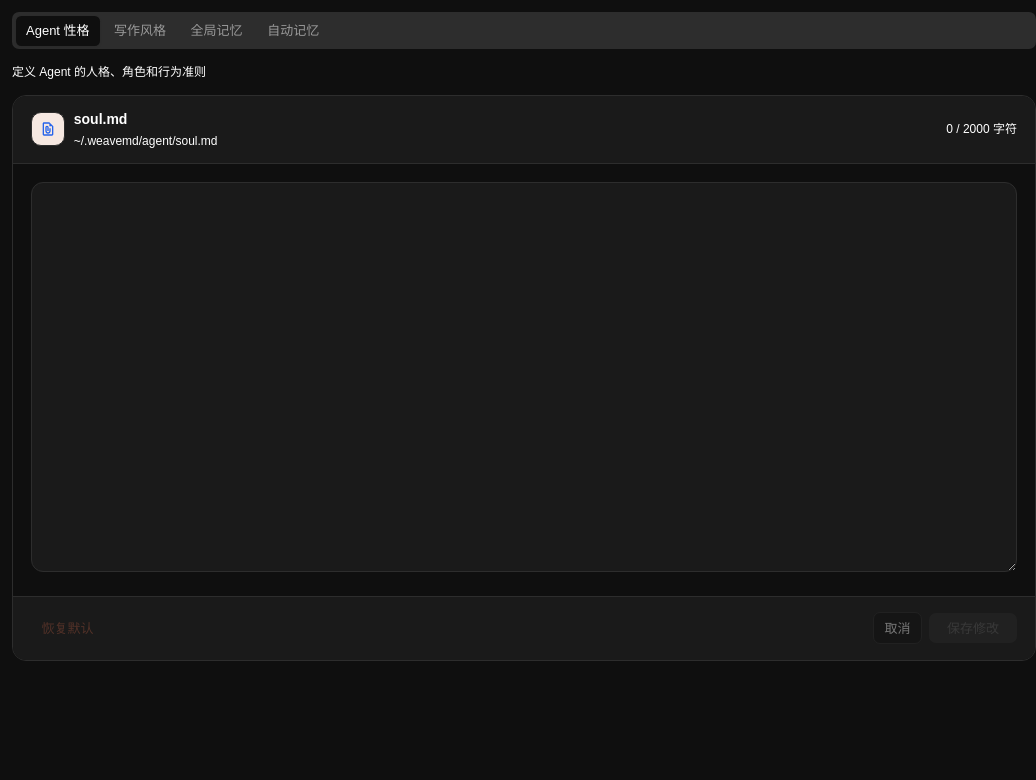
AgentPersonalityPanel — 自动记忆 tab › 列表为空 → 空态文案
Click the button "自动记忆".
click(293, 30)  # box [257,16,330,46]
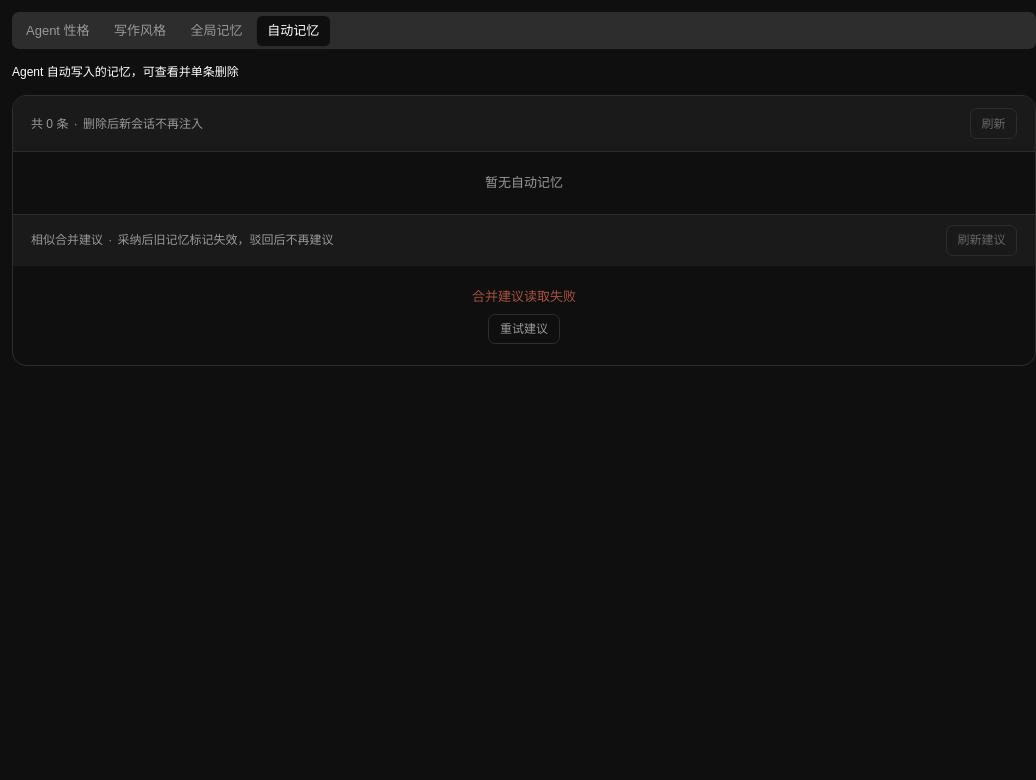
Result: the text "暂无自动记忆" is shown at [485,175,563,190]
